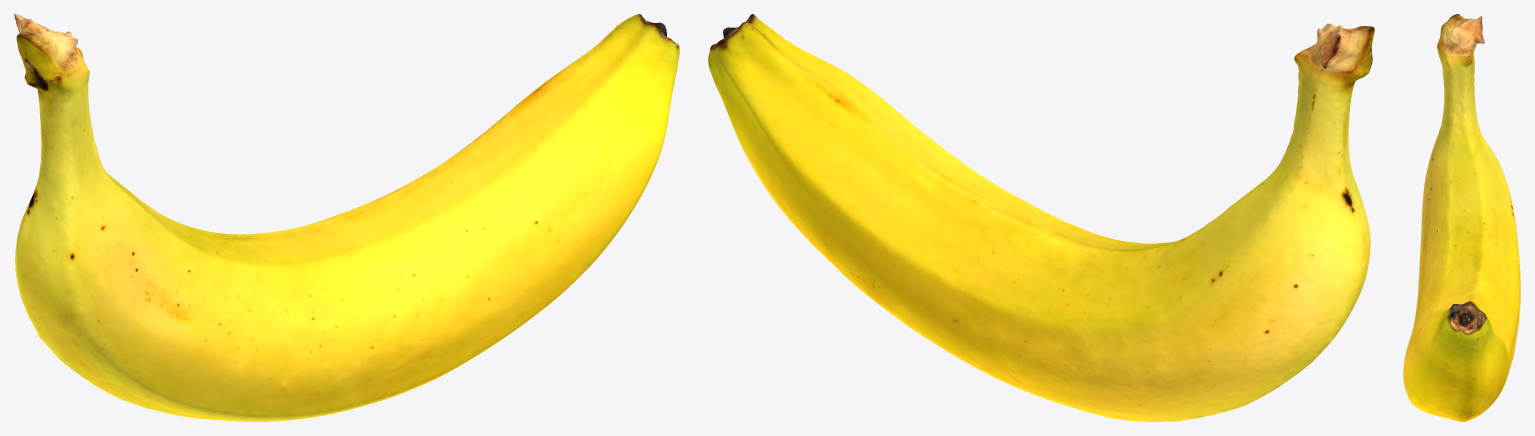
The model's file is banana.glb.
The picture shows the model from 3 angles, left to right: view 1: azimuth 30°, elevation 25°; view 2: azimuth 150°, elevation 25°; view 3: azimuth 270°, elevation 25°; orthographic projection. The views are drawn at different scales.
Visible parts, largest first — view 1: Object_15, Object_16, Object_23, Object_12, Object_14, Object_13, Object_24, Object_17, Object_25, Object_26, Object_22, Object_28 (+21 smaller); view 2: Object_16, Object_15, Object_23, Object_14, Object_12, Object_13, Object_17, Object_24, Object_22, Object_4, Object_25, Object_3 (+22 smaller); view 3: Object_19, Object_20, Object_18, Object_34, Object_10, Object_33, Object_9, Object_32, Object_11, Object_31, Object_8, Object_21 (+19 smaller).
Part boxes in pixels (x1,y1,x2,y2): Object_15: (486,105,549,349); Object_16: (511,85,573,332); Object_23: (395,63,600,395); Object_12: (413,160,478,388); Object_14: (463,125,524,363); Object_13: (439,143,501,376); Object_24: (370,187,435,404); Object_17: (535,14,654,315); Object_25: (345,199,410,410); Object_26: (324,209,386,415); Object_22: (523,45,622,289); Object_28: (267,226,337,421); Object_16: (828,86,904,323); Object_15: (852,106,925,337); Object_23: (799,65,1011,385); Object_14: (876,126,946,350); Object_12: (921,162,992,376); Object_13: (899,145,969,364); Object_17: (737,16,881,306); Object_24: (961,189,1047,399); Object_22: (776,51,853,283); Object_4: (1294,51,1370,286); Object_25: (982,201,1067,406); Object_3: (1301,23,1365,255); Object_19: (1425,314,1488,401); Object_20: (1411,300,1498,415); Object_18: (1415,302,1494,410); Object_34: (1419,209,1519,274); Object_10: (1421,173,1515,239); Object_33: (1418,224,1520,283); Object_9: (1421,159,1511,225); Object_32: (1418,238,1520,320); Object_11: (1409,188,1516,368); Object_31: (1416,251,1520,305); Object_8: (1422,142,1507,212); Object_21: (1407,309,1503,418).
Size of the model in its own units: 6.78 by 4.44 by 1.62.
1 material, 1 textured.
